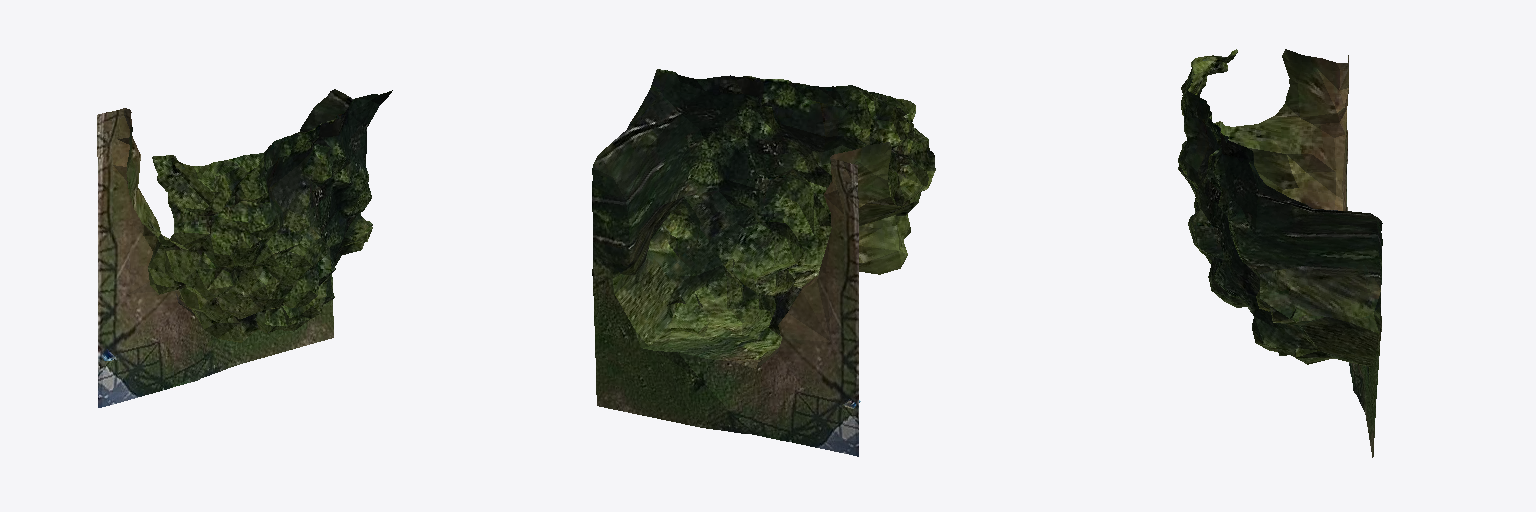
3 renders of one model, left to right at view 1: azimuth 30°, elevation 25°; view 2: azimuth 150°, elevation 25°; view 3: azimuth 270°, elevation 25°, orthographic.
Parts seen in each view (by area): view 1: obj_0; view 2: obj_0; view 3: obj_0.
Boxes of the visible parts, x1=… form: obj_0: x1=97, y1=89, x2=392, y2=407; obj_0: x1=592, y1=69, x2=935, y2=456; obj_0: x1=1178, y1=49, x2=1382, y2=457.
Size of the model in its own units: 20.08 by 22.53 by 14.32.
Materials: 1 (1 with a texture image).